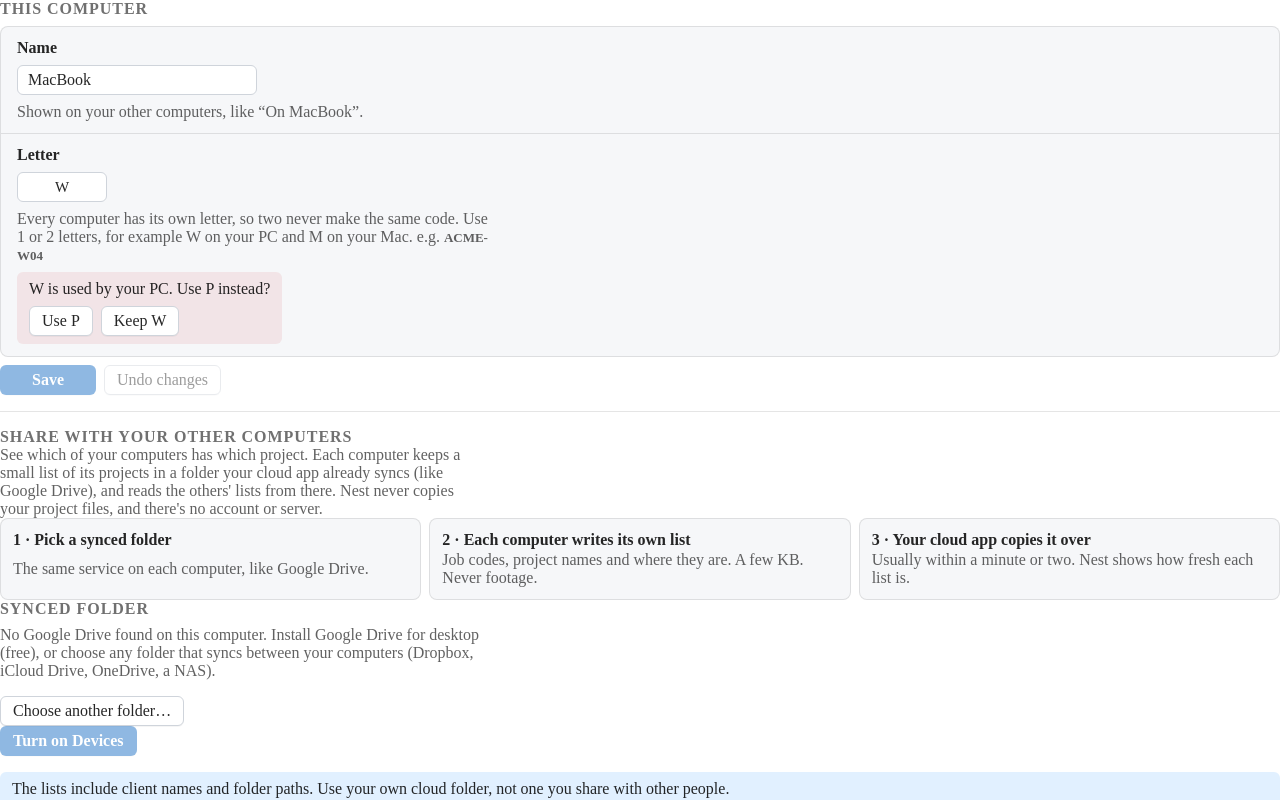
Test: Settings → Computers: this computer › Keep W hides the warning without changing anything
Step 1. Click the button "Keep W" → [140, 321], box 101,306 -> 179,336
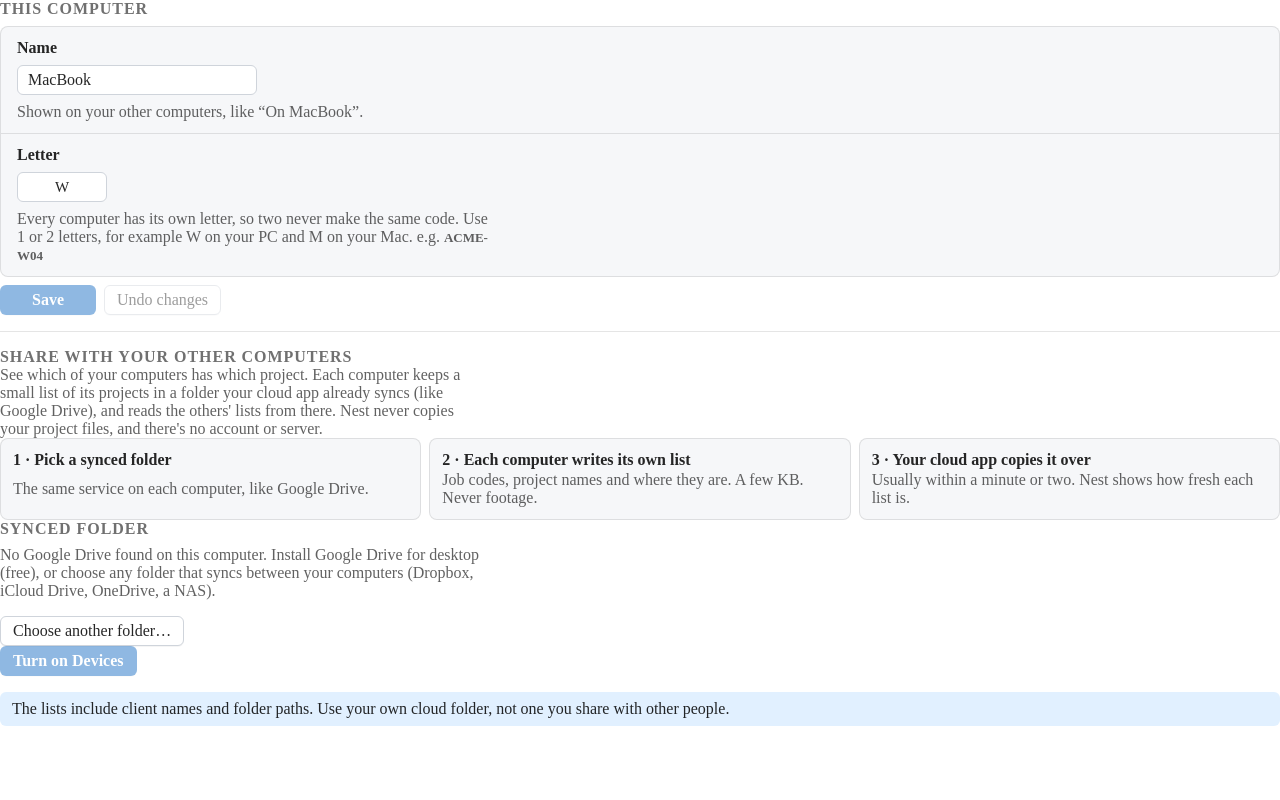
Expected: the text "W is used by" is gone
